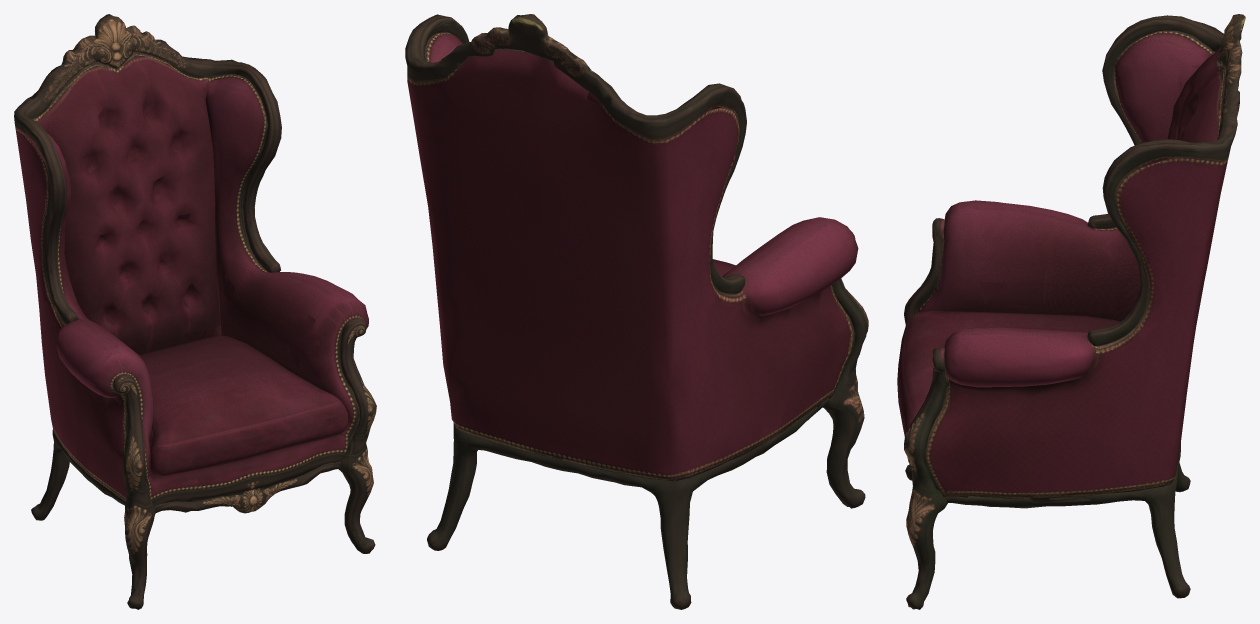
The model's file is rrr_prop_wingback_v1.glb.
3 renders of one model, left to right at view 1: azimuth 30°, elevation 25°; view 2: azimuth 150°, elevation 25°; view 3: azimuth 270°, elevation 25°, orthographic. The views are drawn at different scales.
Visible parts, largest first — view 1: Mesh_0.001; view 2: Mesh_0.001; view 3: Mesh_0.001.
Boxes of the visible parts, box(x1,y1,x2,y2) form: Mesh_0.001: box(14, 14, 376, 609); Mesh_0.001: box(405, 14, 868, 609); Mesh_0.001: box(897, 14, 1245, 609).
Bounding box in the file's own units: 0.7547 × 1.2 × 0.7195.
Materials: 1 (1 with a texture image).
